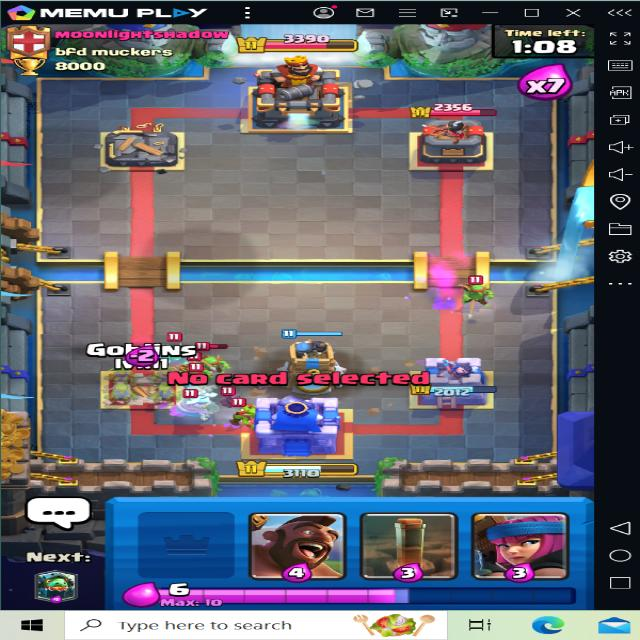bats: (213, 392, 250, 412)
goblin: (222, 401, 265, 430)
spear-goblin: (200, 344, 237, 378), (460, 274, 496, 306)
